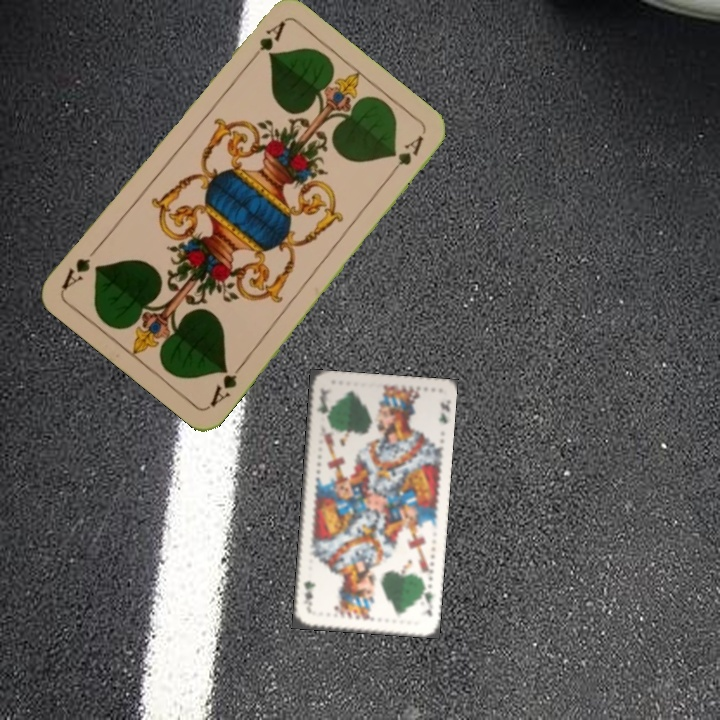GA: (244, 17, 287, 67), (205, 359, 247, 410)
GK: (418, 581, 436, 619), (312, 388, 330, 423)
